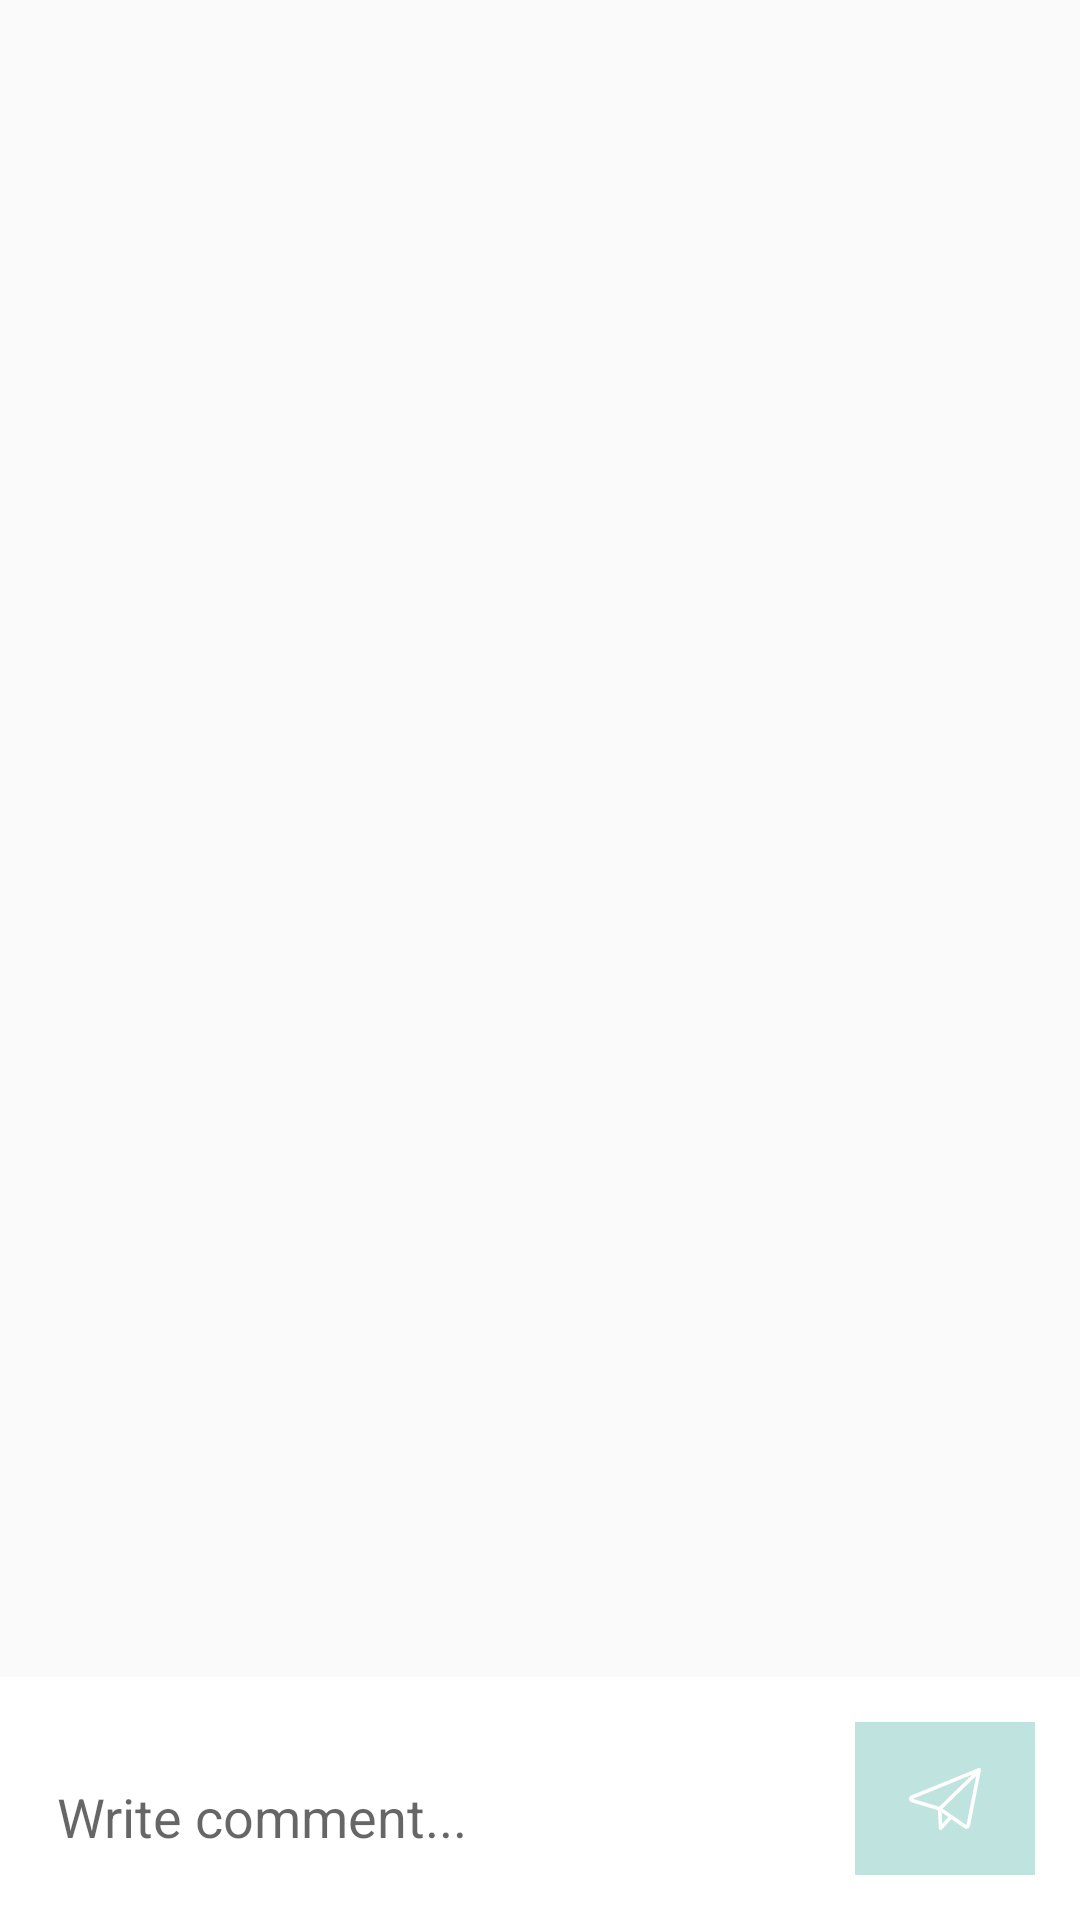

Named icons in this screenshot (1080 x 1920) and their bounding boxes, {"x1": x1, "y1": y1, "x2": x2, "y2": y2}:
paper plane: {"x1": 855, "y1": 1722, "x2": 1035, "y2": 1875}
